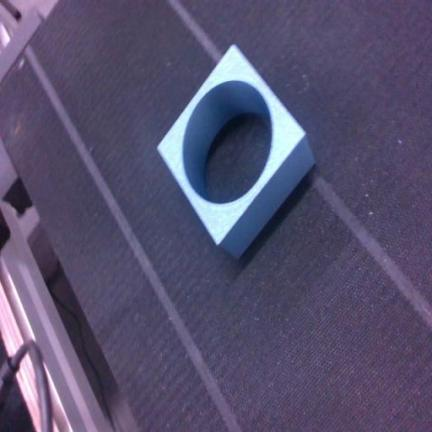hole: (158, 46, 314, 256)
